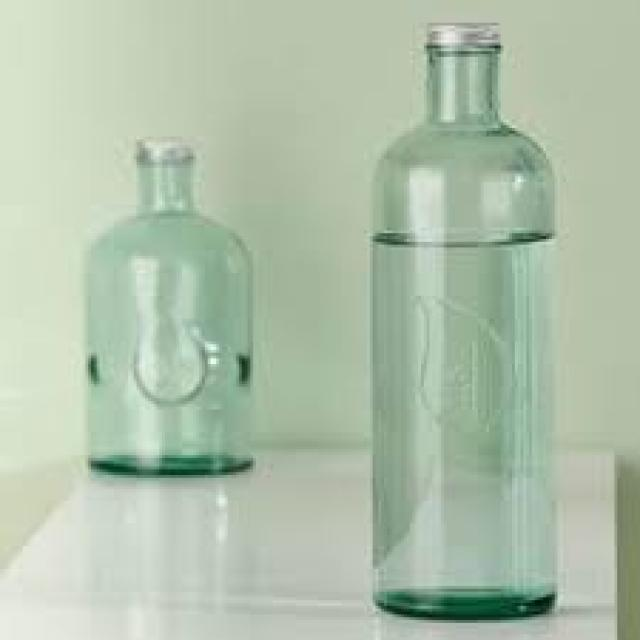glass: (370, 43, 555, 617), (83, 151, 251, 475)
metal: (424, 17, 495, 48), (131, 128, 188, 162)
